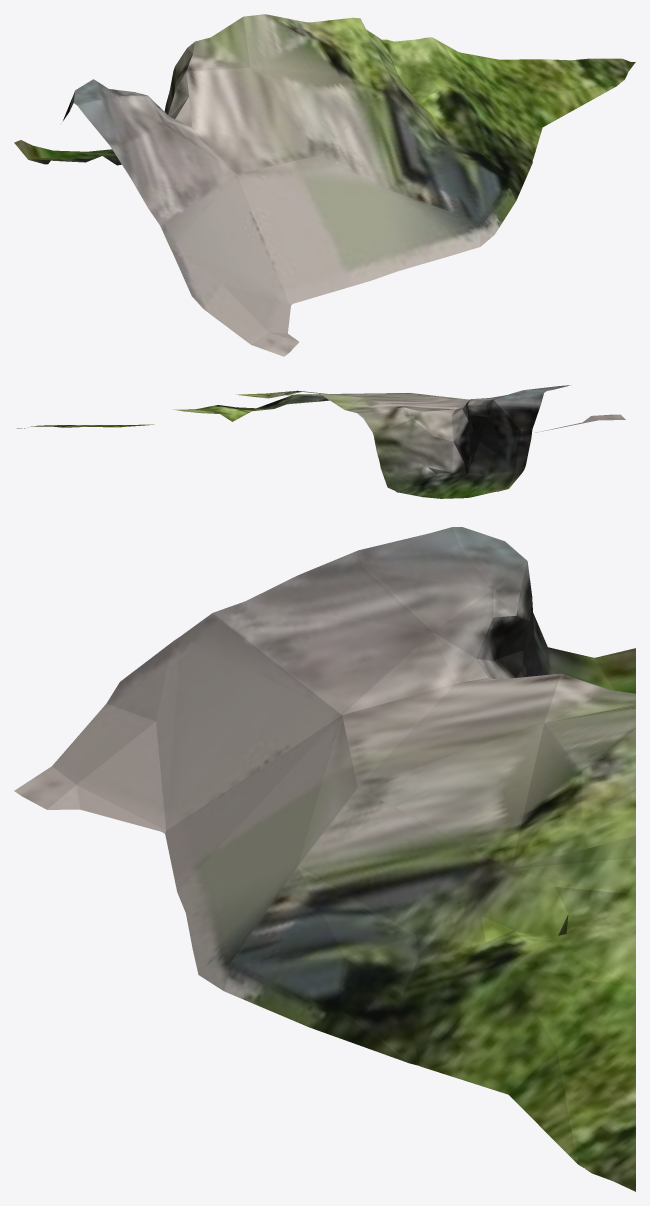
3 renders of one model, top to bottom at view 1: azimuth 30°, elevation 25°; view 2: azimuth 150°, elevation 25°; view 3: azimuth 270°, elevation 25°, orthographic. The views are drawn at different scales.
Size of the model in its own units: 5.93 by 1.41 by 3.54.
Materials: 1 (1 with a texture image).
